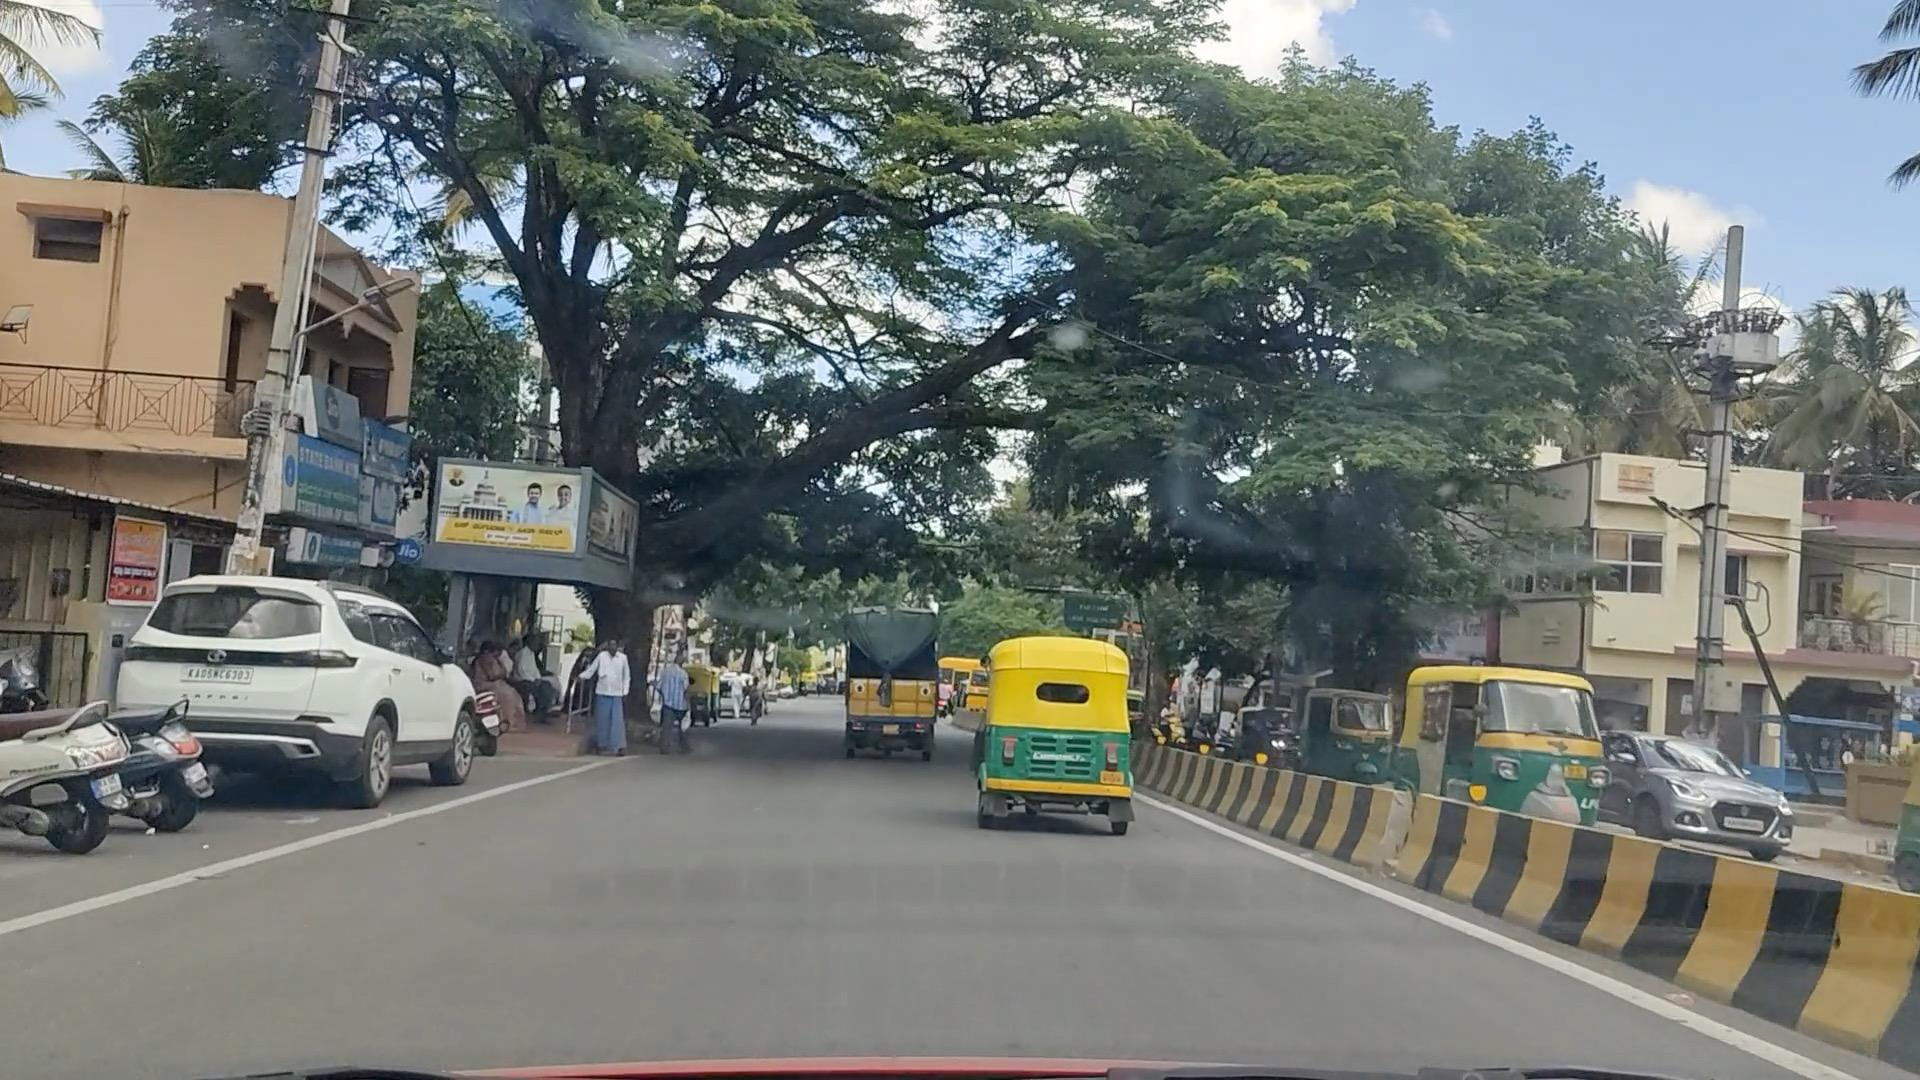HMV: (851, 611, 943, 762)
LMV: (990, 640, 1122, 828)
